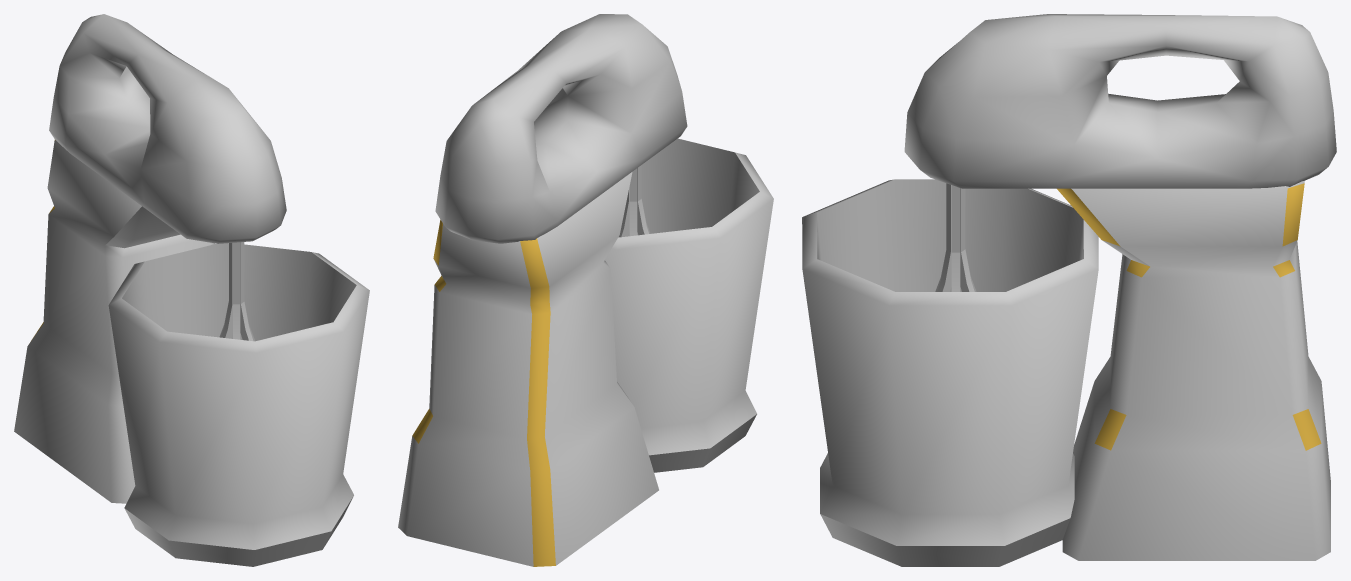
The model's file is whipping_machine.fbx.
3 views of the same model, side by side, from view 1: azimuth 30°, elevation 25°; view 2: azimuth 150°, elevation 25°; view 3: azimuth 270°, elevation 25° (orthographic). The views are drawn at different scales.
Parts seen in each view (by area): view 1: whip_bowl, whip_machine; view 2: whip_machine, whip_bowl; view 3: whip_machine, whip_bowl.
Part boxes in pixels (x1,y1,x2,y2): whip_bowl: (108, 243, 369, 566); whip_machine: (14, 14, 286, 503); whip_machine: (398, 14, 687, 566); whip_bowl: (605, 138, 773, 472); whip_machine: (904, 14, 1336, 560); whip_bowl: (802, 179, 1098, 566).
Bounding box in the file's own units: 10.51 × 18.93 × 19.54.
